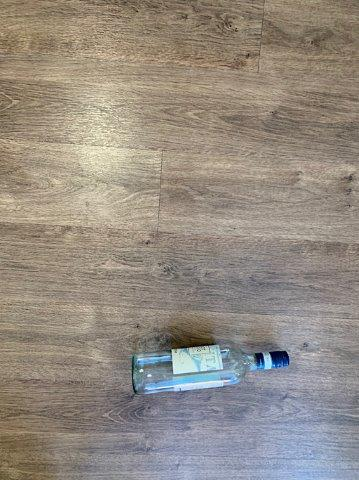botolkaca: (132, 345, 289, 393)
